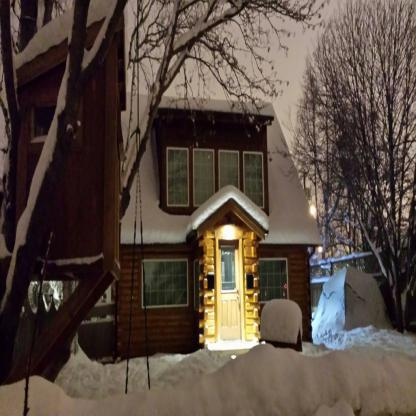door: (217, 231, 244, 336)
